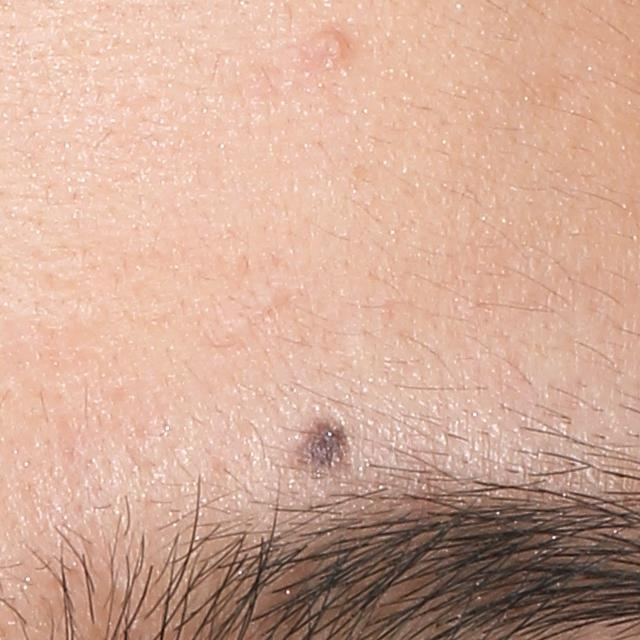nevus: (290, 420, 352, 483)
papule: (309, 26, 354, 69)
